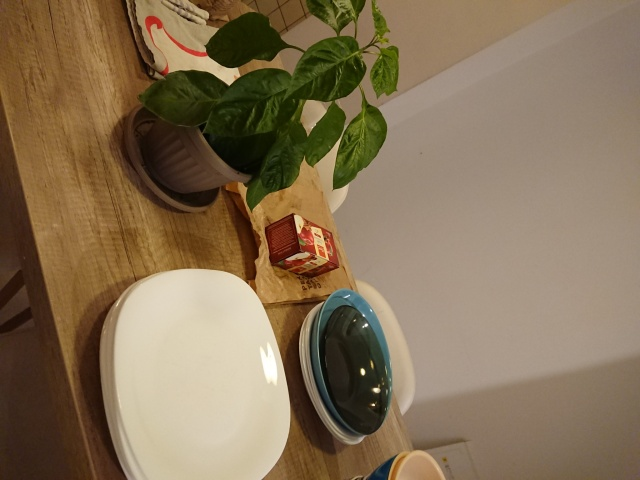Franck Apple Cinnamon Tea 60g: (261, 210, 342, 281)
